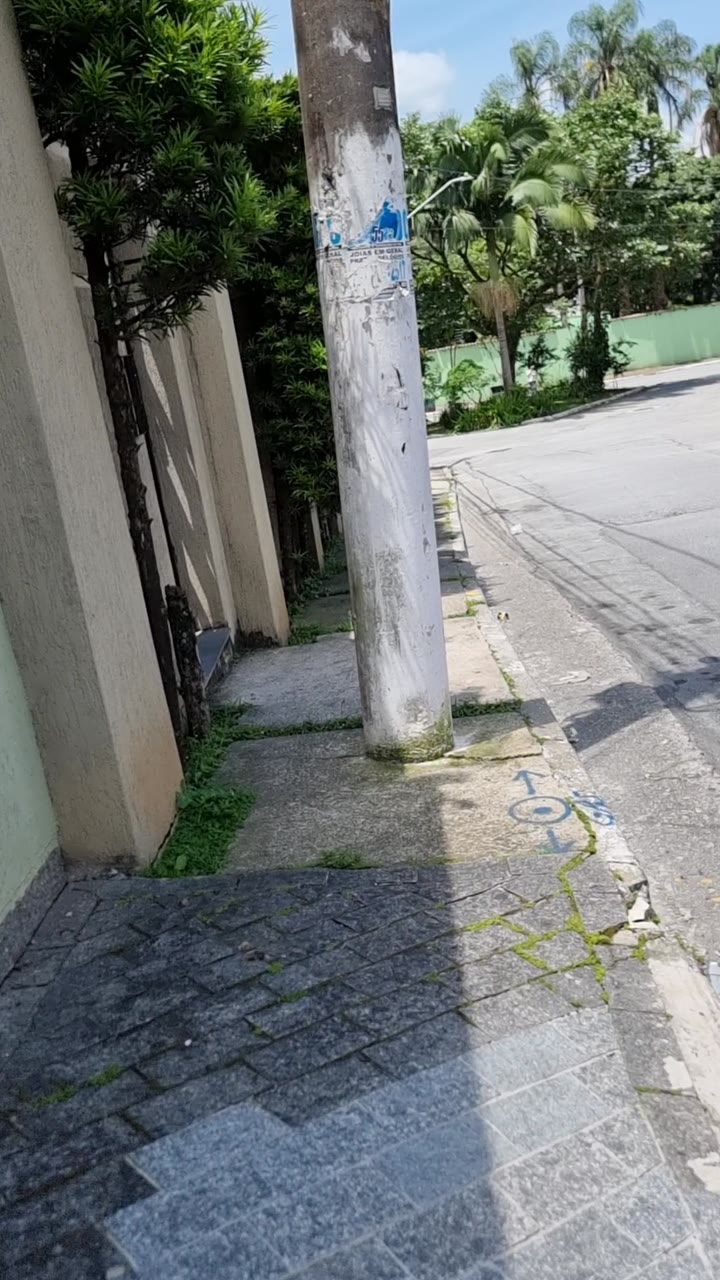obstaculo: (283, 0, 451, 758)
